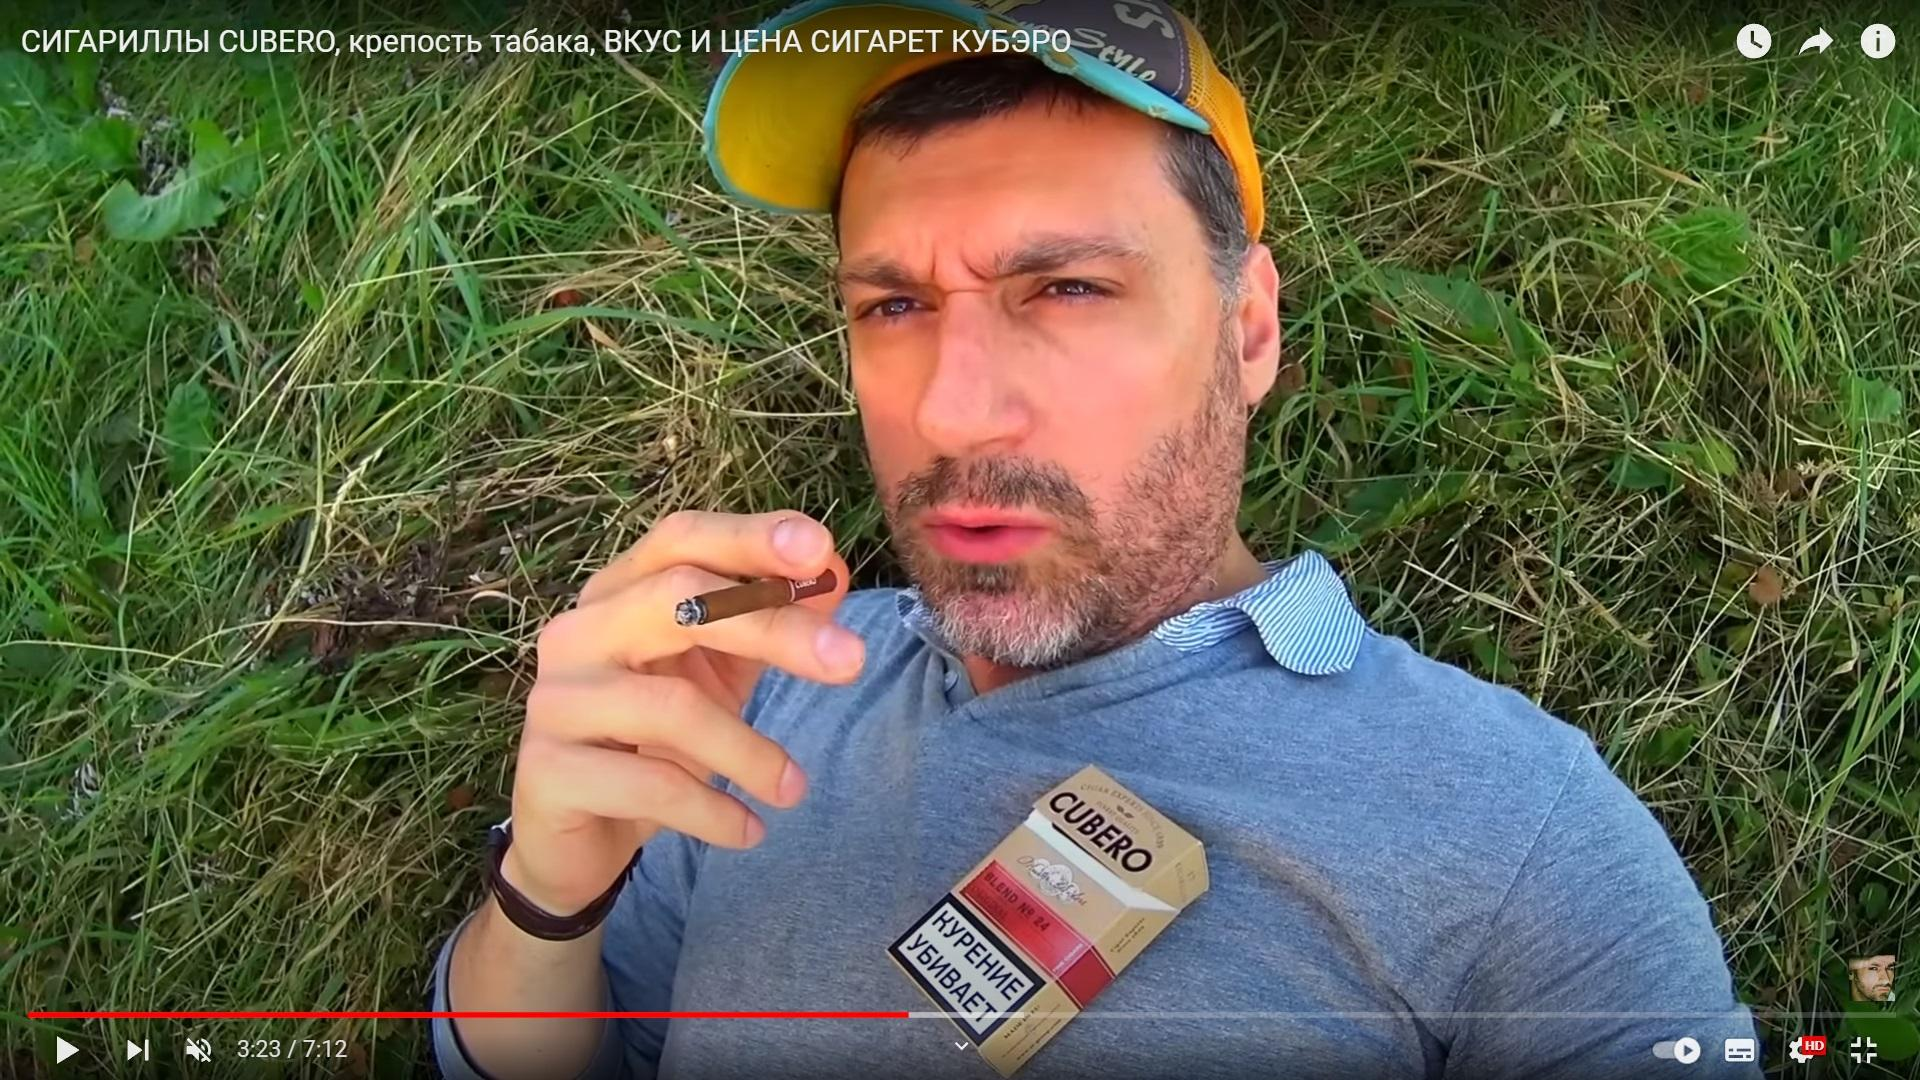cigarette: (674, 568, 837, 628)
